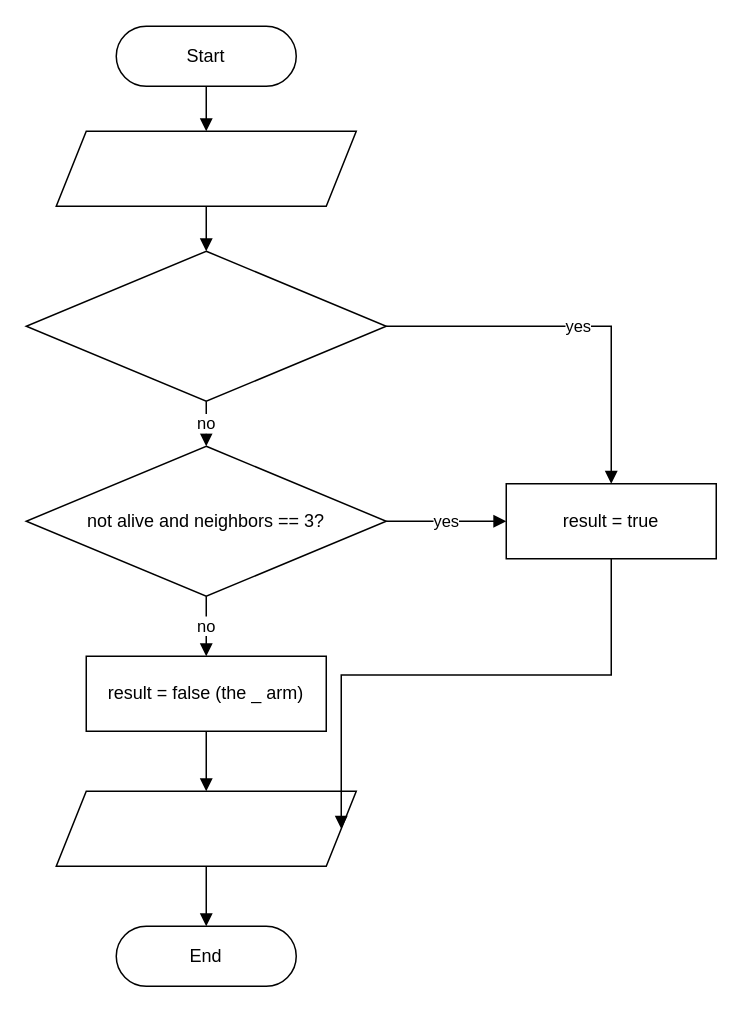
Image size: 743x1013. Some labels were removed from this diagram. The centre of each missing label's shape, as x and y in pixels:
"alive and neighbors is 2 or 3?" belongs at point 205,325.
"Input: alive, neighbors" belongs at point 205,168.
"Output: result" belongs at point 205,828.
